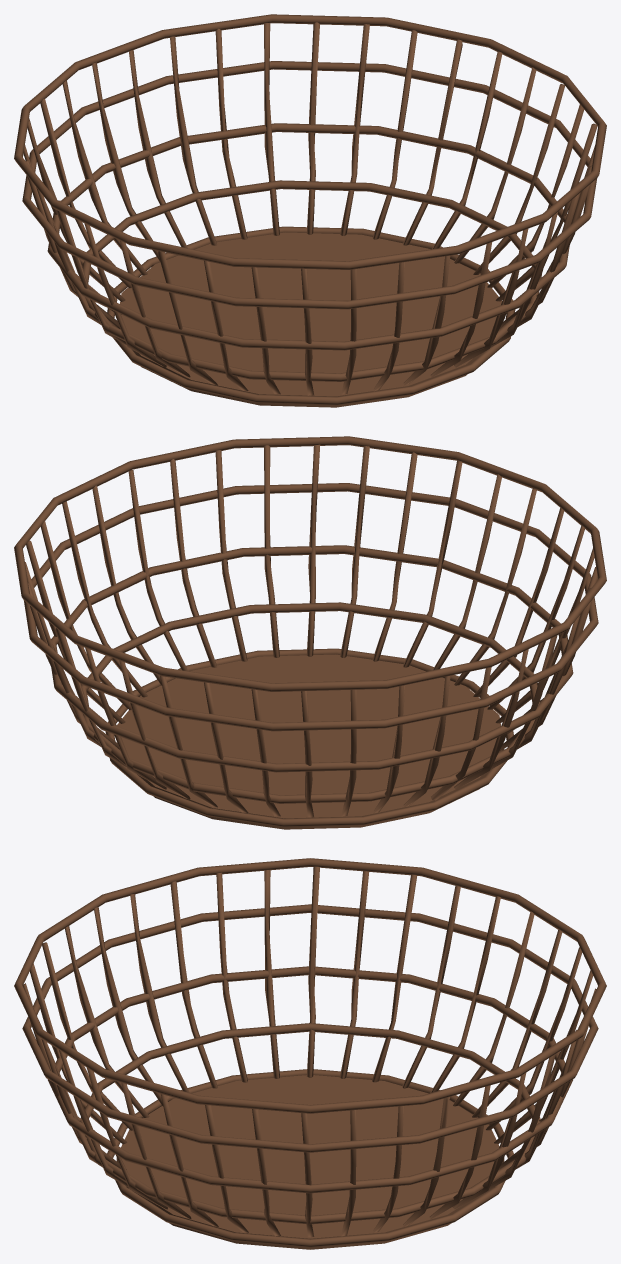
The model's file is SM_basket.fbx.
The picture shows the model from 3 angles, top to bottom: view 1: azimuth 30°, elevation 25°; view 2: azimuth 150°, elevation 25°; view 3: azimuth 270°, elevation 25°; orthographic projection.
Parts seen in each view (by area): view 1: basket; view 2: basket; view 3: basket.
Boxes of the visible parts, left/top/right/bottom form: basket: left=14, top=14, right=606, bottom=407; basket: left=14, top=436, right=606, bottom=829; basket: left=14, top=858, right=606, bottom=1249.
Size of the model in its own units: 110 by 38.1 by 110.
